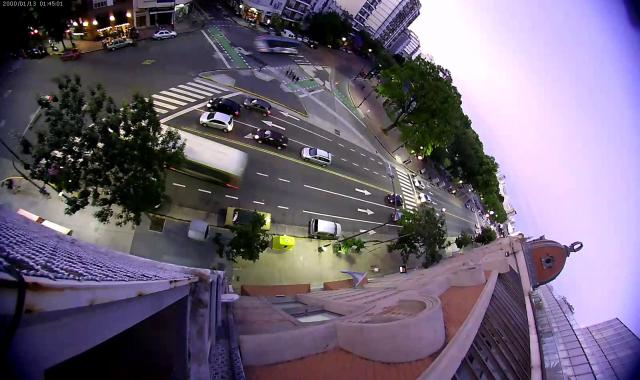bus: (141, 122, 249, 190), (254, 35, 303, 55)
car: (224, 206, 271, 232), (199, 111, 234, 132), (255, 129, 290, 150), (300, 147, 332, 168), (310, 218, 341, 238), (244, 97, 274, 116), (207, 98, 241, 113), (106, 37, 134, 52), (26, 46, 48, 60), (152, 29, 177, 41), (60, 48, 81, 61), (388, 193, 403, 206), (419, 193, 432, 204), (280, 29, 294, 39), (413, 179, 425, 190), (391, 212, 403, 222), (308, 42, 320, 50), (302, 37, 310, 43), (296, 34, 302, 42), (474, 223, 480, 228), (474, 229, 479, 234), (471, 208, 476, 212), (465, 204, 470, 208)
